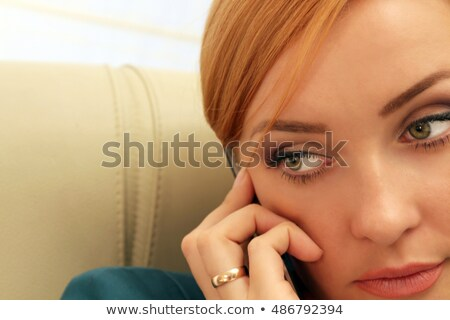phone: (205, 169, 304, 303)
